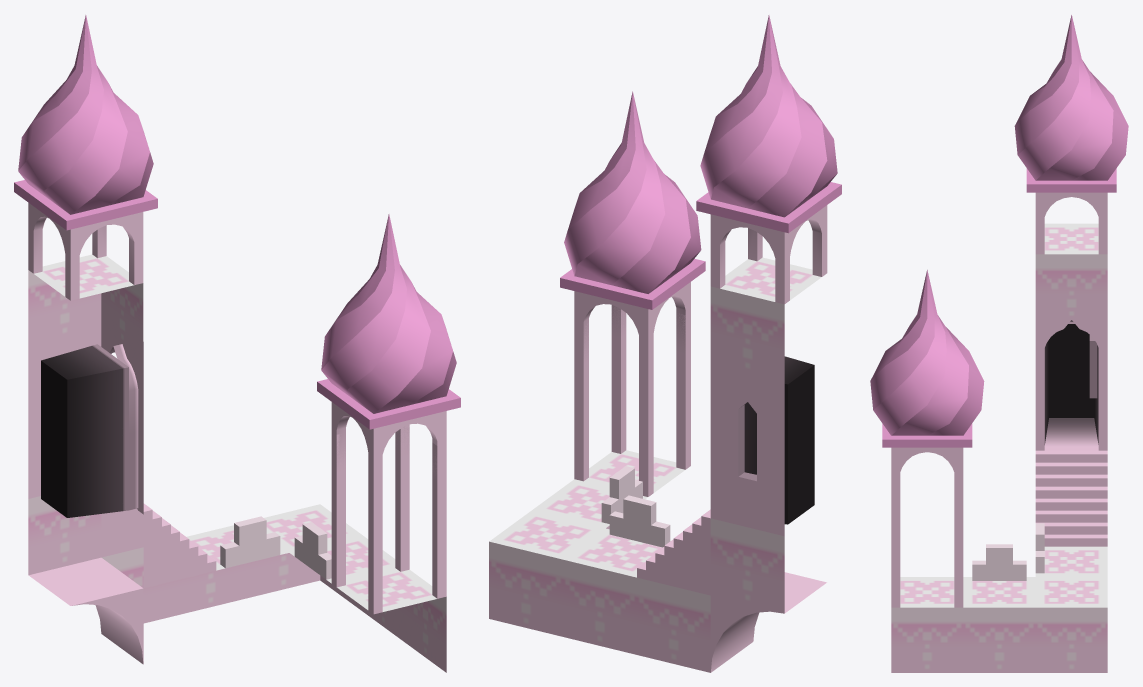
Rendered from _BGGeometryVis_Extra_Building_PCPORT.fbx.
3 views of the same model, side by side, from view 1: azimuth 30°, elevation 25°; view 2: azimuth 150°, elevation 25°; view 3: azimuth 270°, elevation 25° (orthographic). The views are drawn at different scales.
Visible parts, largest first — view 1: _Combined_BGGeometryVis_Extra_Building_PCPORTChild_ThiefMain; view 2: _Combined_BGGeometryVis_Extra_Building_PCPORTChild_ThiefMain; view 3: _Combined_BGGeometryVis_Extra_Building_PCPORTChild_ThiefMain.
Boxes of the visible parts, x1=… form: _Combined_BGGeometryVis_Extra_Building_PCPORTChild_ThiefMain: x1=14, y1=15, x2=460, y2=672; _Combined_BGGeometryVis_Extra_Building_PCPORTChild_ThiefMain: x1=489, y1=15, x2=841, y2=672; _Combined_BGGeometryVis_Extra_Building_PCPORTChild_ThiefMain: x1=870, y1=15, x2=1128, y2=672.
Size of the model in its own units: 4.58 by 8.44 by 3.58.
Materials: 1 (1 with a texture image).
